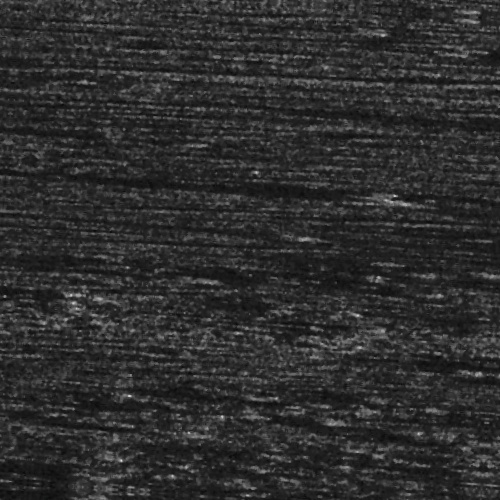object: (337, 182, 410, 195), (49, 300, 102, 309), (251, 229, 334, 234), (446, 250, 500, 257), (0, 492, 31, 499)
shadow: (0, 182, 373, 195), (161, 250, 487, 257), (37, 229, 292, 234), (107, 104, 500, 107), (334, 225, 500, 232), (383, 402, 500, 409), (0, 300, 75, 309), (452, 394, 500, 405), (470, 14, 500, 29), (448, 191, 500, 196), (466, 238, 500, 243)
